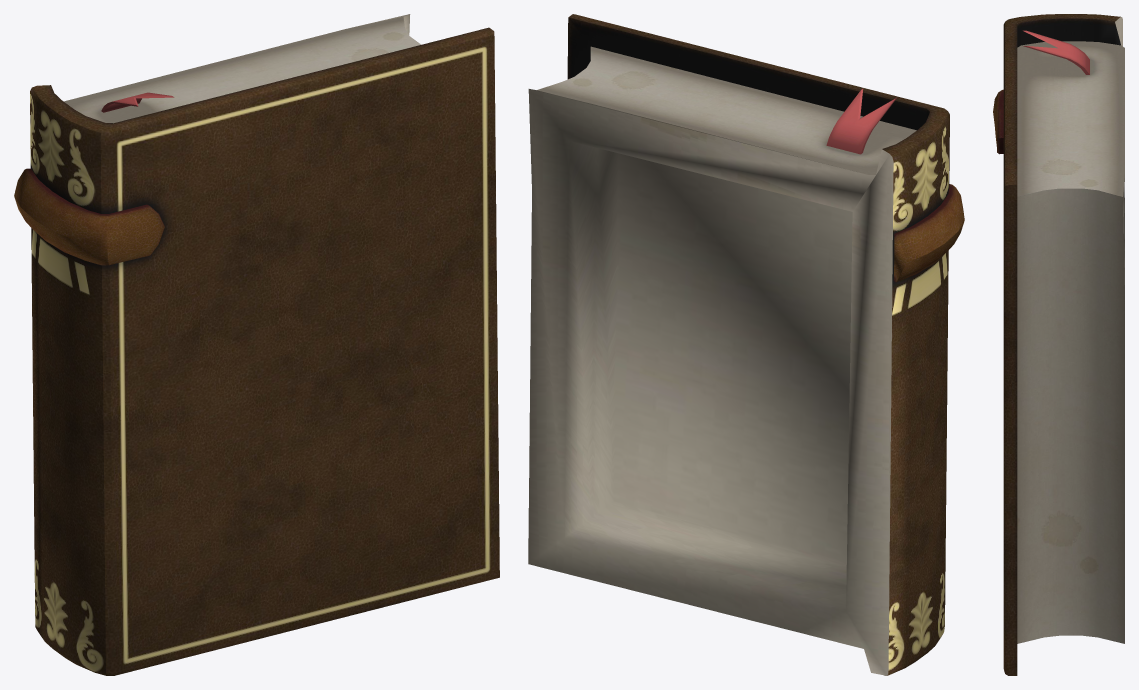
Rendered from hollowbook.fbx.
3 renders of one model, left to right at view 1: azimuth 30°, elevation 25°; view 2: azimuth 150°, elevation 25°; view 3: azimuth 270°, elevation 25°, orthographic. The views are drawn at different scales.
Visible parts, largest first — view 1: HollowBook; view 2: HollowBook; view 3: HollowBook.
Part boxes in pixels (x1,y1,x2,y2): HollowBook: (14,14,499,675); HollowBook: (528,14,964,675); HollowBook: (993,14,1124,675).
Size of the model in its own units: 23.91 by 29.56 by 7.13.
Materials: 1 (1 with a texture image).
